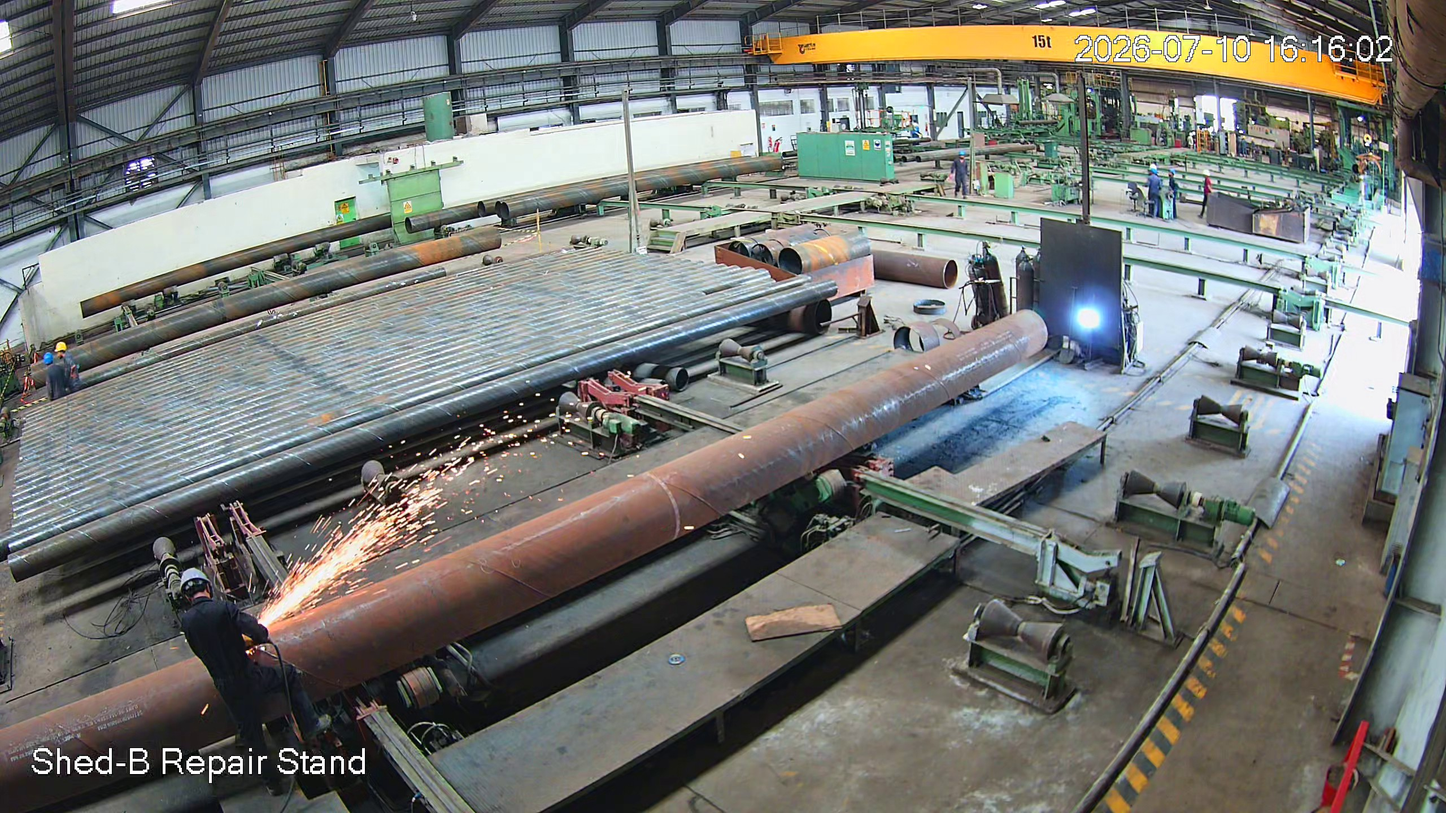Helmet: (175, 561, 232, 619), (53, 341, 71, 360), (42, 352, 54, 367), (1148, 167, 1160, 182), (1202, 168, 1214, 180), (1167, 168, 1176, 179)
Person: (169, 567, 332, 801), (55, 341, 80, 392), (42, 353, 65, 402), (1146, 169, 1162, 217), (1166, 169, 1181, 216), (1201, 170, 1213, 219)
